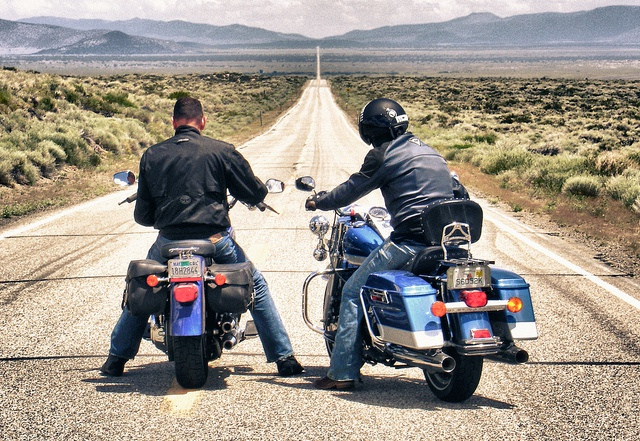non-vehicle: (300, 199, 535, 408), (122, 239, 257, 390)
